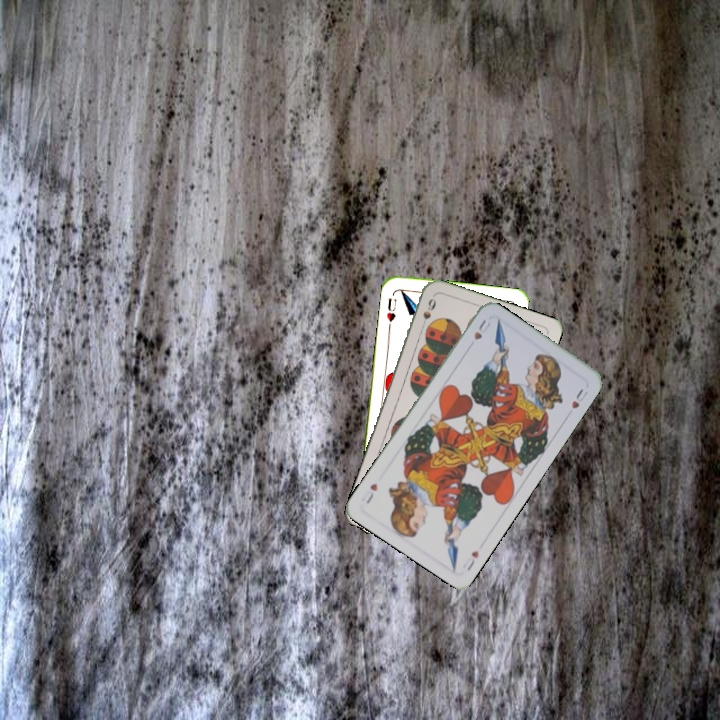HU: (470, 315, 493, 343), (463, 546, 482, 573), (382, 294, 399, 324)
S9: (417, 294, 439, 332)
